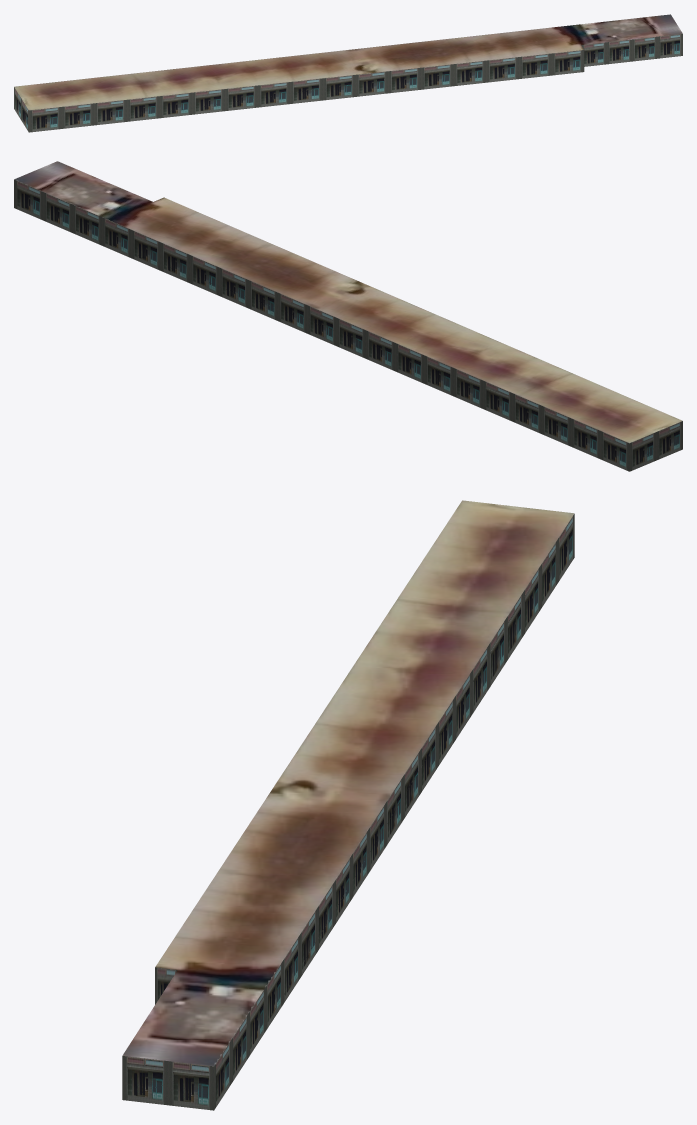
File: T_1T2XP4NVTC.dae
The picture shows the model from 3 angles, top to bottom: view 1: azimuth 30°, elevation 25°; view 2: azimuth 150°, elevation 25°; view 3: azimuth 270°, elevation 25°; orthographic projection. The views are drawn at different scales.
Visible parts, largest first — view 1: SketchUp (×4); view 2: SketchUp (×3); view 3: SketchUp (×3).
Part boxes in pixels (box(x1,y1,x2,y2)): SketchUp (×4): box(14, 14, 682, 132); SketchUp (×3): box(14, 161, 682, 471); SketchUp (×3): box(122, 500, 574, 1110).
Bounding box in the file's own units: 119 × 40.23 × 4.34.
2 materials, 2 textured.
